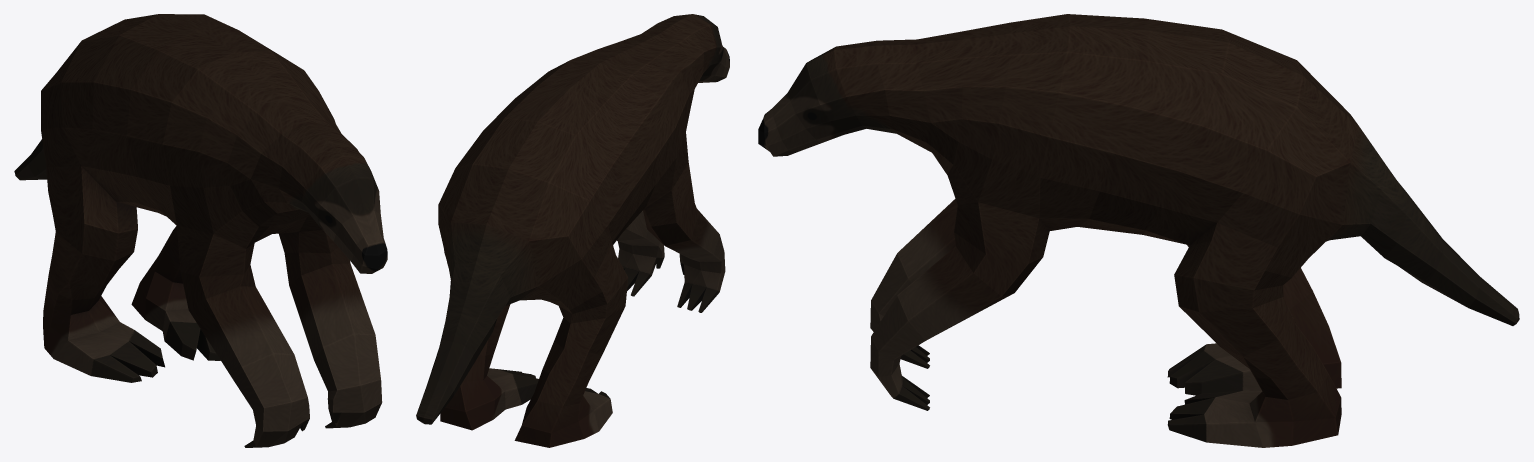
File: sloth.glb
3 renders of one model, left to right at view 1: azimuth 30°, elevation 25°; view 2: azimuth 150°, elevation 25°; view 3: azimuth 270°, elevation 25°, orthographic. The views are drawn at different scales.
Visible parts, largest first — view 1: node-0; view 2: node-0; view 3: node-0.
Boxes of the visible parts, x1,y1,x2,y2 form: node-0: [14, 14, 387, 447]; node-0: [416, 14, 729, 447]; node-0: [758, 14, 1519, 447].
Bounding box in the file's own units: 2.78 × 4.91 × 9.04.
Materials: 1 (1 with a texture image).
